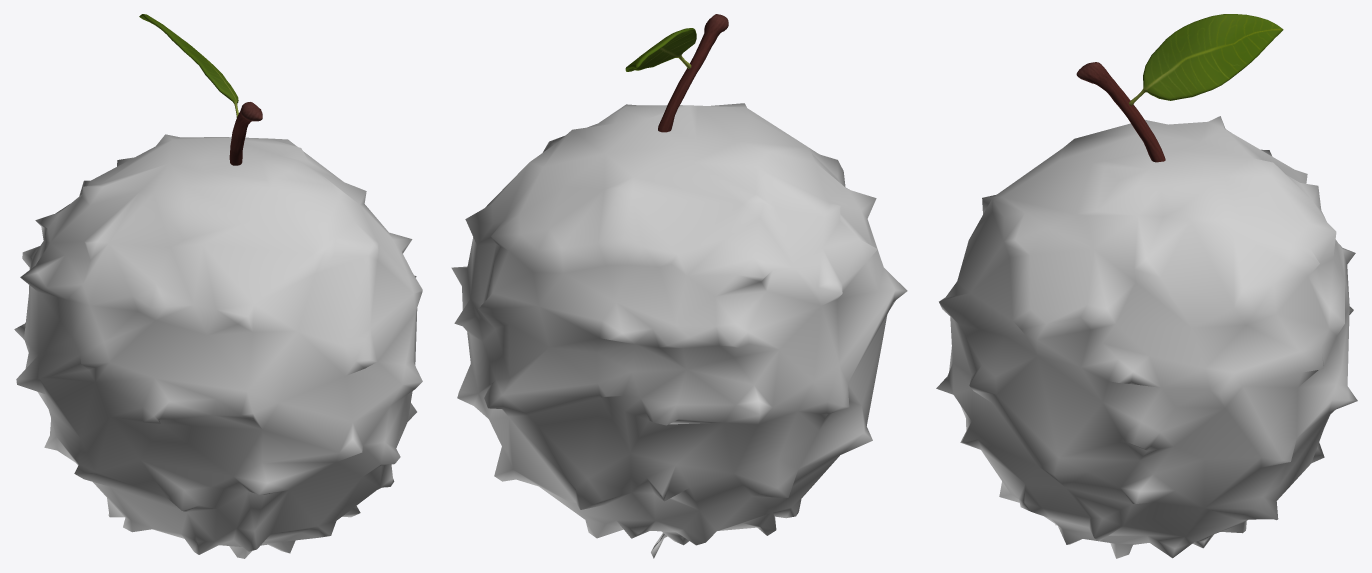
Rendered from MutApple.fbx.
3 renders of one model, left to right at view 1: azimuth 30°, elevation 25°; view 2: azimuth 150°, elevation 25°; view 3: azimuth 270°, elevation 25°, orthographic. The views are drawn at different scales.
Visible parts, largest first — view 1: 47_kiwano, Group59515; view 2: 47_kiwano, Group59515; view 3: 47_kiwano, Group59515.
Boxes of the visible parts, <box> form: 47_kiwano: <box>14,134,422,558</box>; Group59515: <box>139,14,262,165</box>; 47_kiwano: <box>451,103,907,558</box>; Group59515: <box>625,14,728,132</box>; 47_kiwano: <box>936,116,1357,558</box>; Group59515: <box>1076,14,1283,162</box>.
Size of the model in its own units: 59.26 by 77.28 by 58.39.
